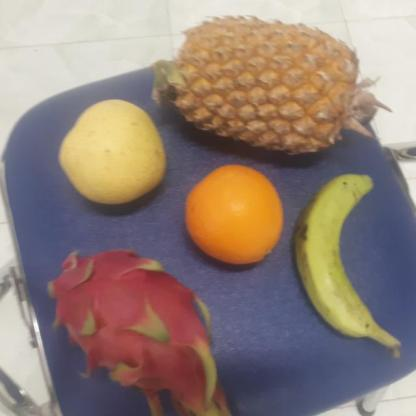banana: (293, 174, 384, 343)
guava: (55, 102, 166, 206)
pineapple: (153, 15, 366, 164)
pitaya: (42, 252, 218, 395)
